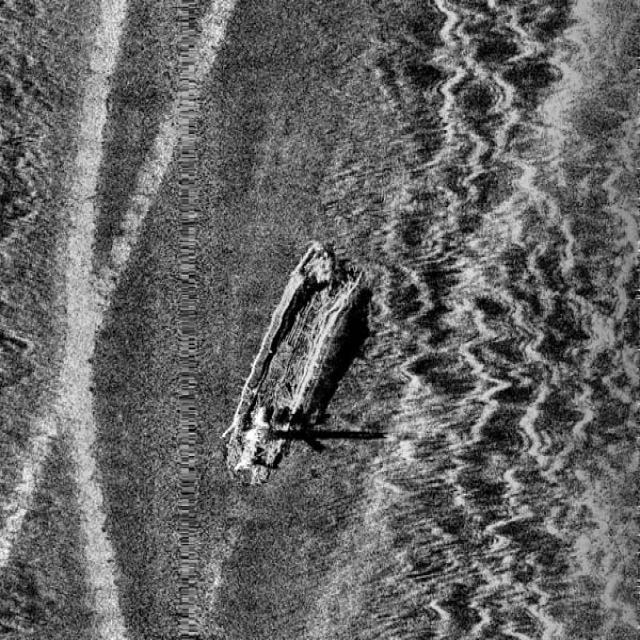shipwreck: (232, 235, 362, 475)
